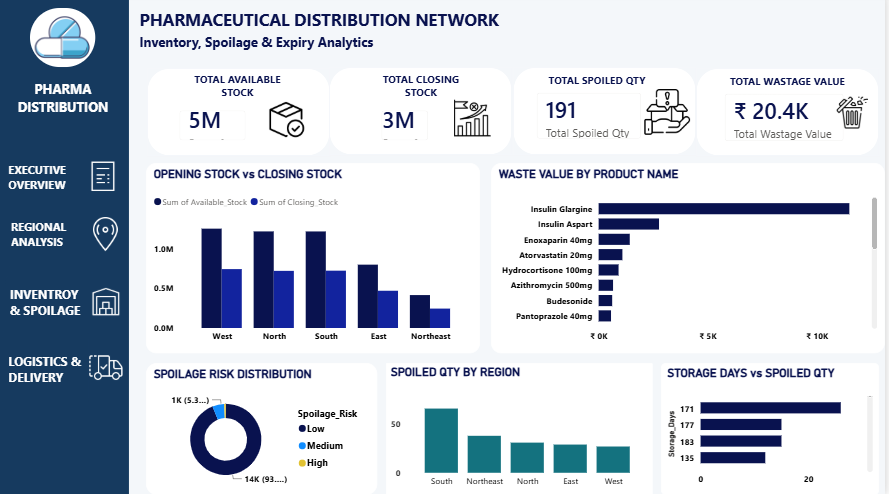

Layout of this report page (visuals, bound fields, positions):
{"tool":"powerbi","page":{"name":"Inventory, Spoilage & Expiry Analytics","canvas":[1280,720],"ordinal":2},"visuals":[{"type":"shape","box":[0,0,190.1,720],"z":0},{"type":"image","box":[47.5,18.7,93.6,85],"z":1000},{"type":"textbox","box":[5.8,118.1,178.6,63.4],"z":2000},{"type":"textbox","box":[200.2,13,558.7,49],"z":3000},{"type":"textbox","box":[200.2,50.4,558.7,41.8],"z":4000},{"type":"shape","box":[216,105.1,263.5,126.7],"z":5000},{"type":"shape","box":[478.1,103.7,263.5,126.7],"z":6000},{"type":"shape","box":[743,103.7,263.5,126.7],"z":7000},{"type":"shape","box":[1006.6,105.1,263.5,126.7],"z":8000},{"type":"cardVisual","fields":{"Data":["Sum(Pharma_Distribution.Closing_Stock)"]},"box":[535.7,148.3,103.7,79.2],"z":9000},{"type":"cardVisual","fields":{"Data":["Sum(Pharma_Distribution.Available_Stock)"]},"box":[244.8,148.3,131,79.2],"z":10000},{"type":"cardVisual","fields":{"Data":["Performance_Metrics.Total Spoiled Qty"]},"box":[760.3,123.8,184.3,100.8],"z":11000},{"type":"cardVisual","fields":{"Data":["Performance_Metrics.Total Wastage Value"]},"box":[1031,125.3,205.9,102.2],"z":12000},{"type":"textbox","box":[257.8,105.1,177.1,51.8],"z":13000},{"type":"textbox","box":[525.6,105.1,169.9,51.8],"z":14000},{"type":"textbox","box":[783.4,106.6,161.3,34.6],"z":15000},{"type":"textbox","box":[1045.4,108,185.8,36],"z":16000},{"type":"image","box":[387.4,144,60.5,73.4],"z":17000},{"type":"image","box":[658.1,139.7,53.3,74.9],"z":18000},{"type":"image","box":[923,135.4,83.5,66.2],"z":19000},{"type":"image","box":[1206.7,136.8,49,64.8],"z":20000},{"type":"clusteredColumnChart","title":"OPENING STOCK vs CLOSING STOCK","fields":{"Category":["Pharma_Distribution.Region"],"Y":["Sum(Pharma_Distribution.Available_Stock)","Sum(Pharma_Distribution.Closing_Stock)"]},"box":[214.6,241.9,481,273.6],"z":21000},{"type":"clusteredBarChart","title":"WASTE VALUE BY PRODUCT NAME","fields":{"Y":["Performance_Metrics.Total Wastage Value"],"Category":["Pharma_Distribution.Product_Name"]},"box":[711.4,241.9,567.4,273.6],"z":22000},{"type":"donutChart","title":"SPOILAGE RISK DISTRIBUTION","fields":{"Category":["Pharma_Distribution.Spoilage_Risk"],"Y":["CountNonNull(Pharma_Distribution.Order_ID)"]},"box":[214.6,529.9,332.6,190.1],"z":23000},{"type":"clusteredColumnChart","title":"SPOILED QTY BY REGION","fields":{"Category":["Pharma_Distribution.Region"],"Y":["Performance_Metrics.Total Spoiled Qty"]},"box":[560.2,529.9,384.5,190.1],"z":24000},{"type":"clusteredBarChart","title":"STORAGE DAYS vs SPOILED QTY","fields":{"Category":["Pharma_Distribution.Storage_Days"],"Y":["Sum(Pharma_Distribution.Spoiled_Qty)"]},"box":[956.2,529.9,313.9,190.1],"z":25000},{"type":"shape","box":[7.2,463.7,125.3,148.3],"z":25001},{"type":"shape","box":[11.5,229,121,66.2],"z":25002},{"type":"shape","box":[11.5,285.1,141.1,118.1],"z":25003},{"type":"shape","box":[11.5,393.1,129.6,97.9],"z":25004},{"type":"image","box":[129.6,229,46.1,63.4],"z":25005},{"type":"image","box":[129.6,315.4,53.3,56.2],"z":25006},{"type":"image","box":[123.8,419,66.2,44.6],"z":25007},{"type":"image","box":[123.8,511.2,66.2,47.5],"z":25008}]}

Visuals, with their boxes on the page's 1280x720 design canvas (x1, y1, x2, y2). These are canvas units, not pixel positions in the 889x494 screenshot, which may show the page scaled, cropped or inside an application window:
shape: (x1=0, y1=0, x2=190, y2=720)
image: (x1=48, y1=19, x2=141, y2=104)
textbox: (x1=6, y1=118, x2=184, y2=182)
textbox: (x1=200, y1=13, x2=759, y2=62)
textbox: (x1=200, y1=50, x2=759, y2=92)
shape: (x1=216, y1=105, x2=480, y2=232)
shape: (x1=478, y1=104, x2=742, y2=230)
shape: (x1=743, y1=104, x2=1006, y2=230)
shape: (x1=1007, y1=105, x2=1270, y2=232)
cardVisual - Sum(Pharma_Distribution.Closing_Stock): (x1=536, y1=148, x2=639, y2=228)
cardVisual - Sum(Pharma_Distribution.Available_Stock): (x1=245, y1=148, x2=376, y2=228)
cardVisual - Performance_Metrics.Total Spoiled Qty: (x1=760, y1=124, x2=945, y2=225)
cardVisual - Performance_Metrics.Total Wastage Value: (x1=1031, y1=125, x2=1237, y2=228)
textbox: (x1=258, y1=105, x2=435, y2=157)
textbox: (x1=526, y1=105, x2=696, y2=157)
textbox: (x1=783, y1=107, x2=945, y2=141)
textbox: (x1=1045, y1=108, x2=1231, y2=144)
image: (x1=387, y1=144, x2=448, y2=217)
image: (x1=658, y1=140, x2=711, y2=215)
image: (x1=923, y1=135, x2=1006, y2=202)
image: (x1=1207, y1=137, x2=1256, y2=202)
"OPENING STOCK vs CLOSING STOCK" clusteredColumnChart: (x1=215, y1=242, x2=696, y2=516)
"WASTE VALUE BY PRODUCT NAME" clusteredBarChart: (x1=711, y1=242, x2=1279, y2=516)
"SPOILAGE RISK DISTRIBUTION" donutChart: (x1=215, y1=530, x2=547, y2=720)
"SPOILED QTY BY REGION" clusteredColumnChart: (x1=560, y1=530, x2=945, y2=720)
"STORAGE DAYS vs SPOILED QTY" clusteredBarChart: (x1=956, y1=530, x2=1270, y2=720)
shape: (x1=7, y1=464, x2=132, y2=612)
shape: (x1=12, y1=229, x2=132, y2=295)
shape: (x1=12, y1=285, x2=153, y2=403)
shape: (x1=12, y1=393, x2=141, y2=491)
image: (x1=130, y1=229, x2=176, y2=292)
image: (x1=130, y1=315, x2=183, y2=372)
image: (x1=124, y1=419, x2=190, y2=464)
image: (x1=124, y1=511, x2=190, y2=559)
